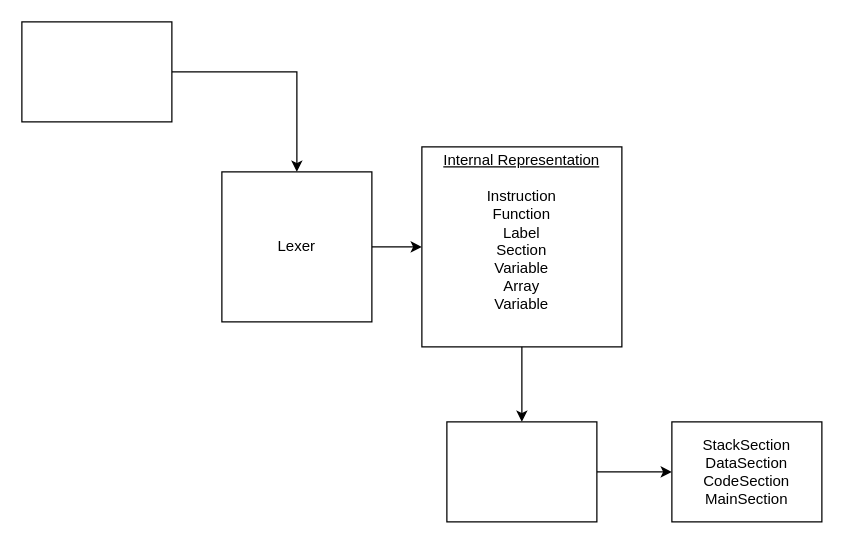
Some shapes in this 844 by 544 pixel diagram are drawn without their labels. The shapes that lost their labels are listed below. From the top down, each one's centre as x and y in pixels, then its label:
At pixel 96 71: "Source Code".
At pixel 521 471: "Parser".
